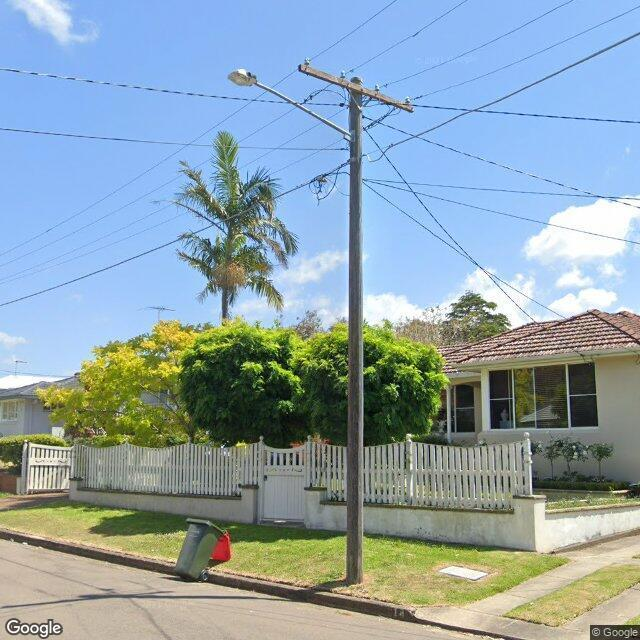crossarm: (297, 62, 415, 114)
streetlight: (227, 68, 355, 143)
timber-pole: (346, 78, 364, 586)
